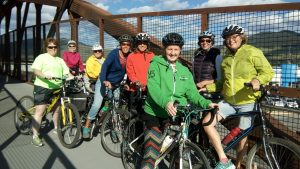with_helmet: (221, 23, 248, 38), (161, 32, 185, 48)
